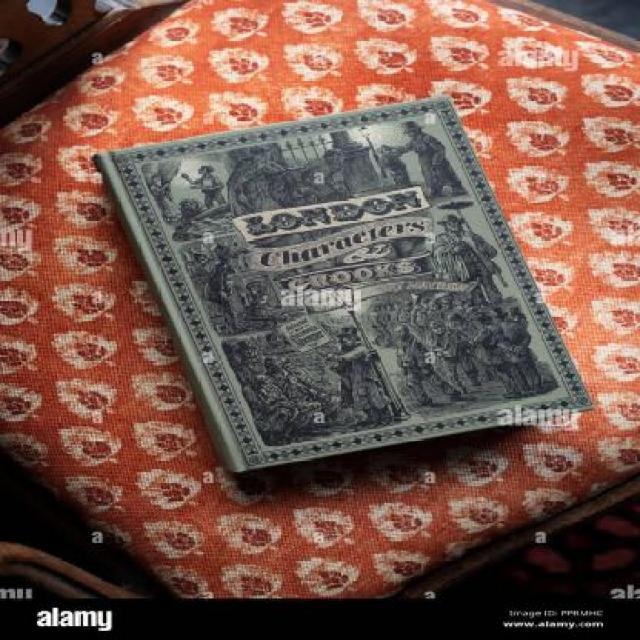pen: (87, 99, 613, 489)
